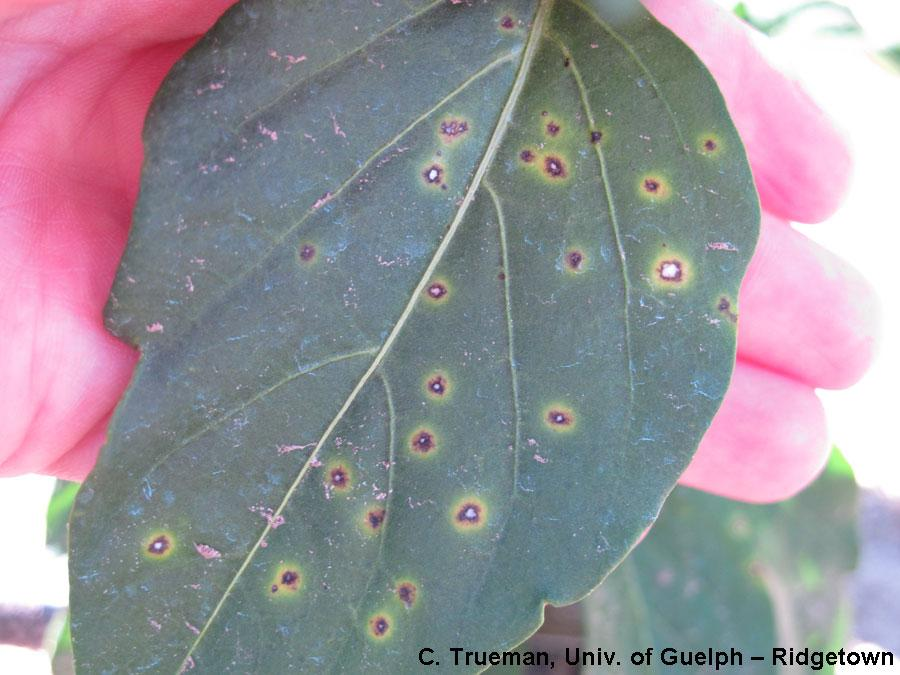Bell_pepper leaf: (78, 14, 759, 648)
